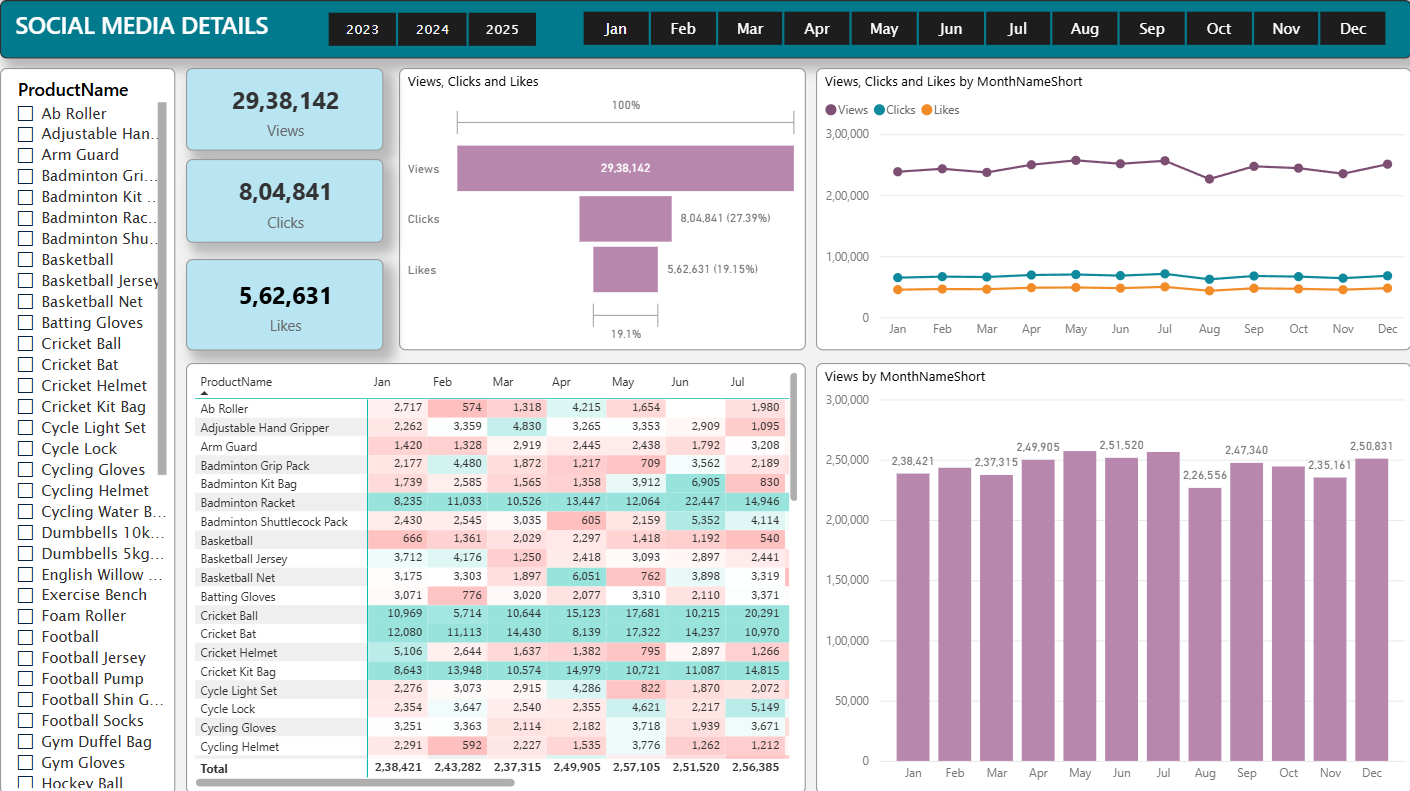

The page's visual inventory and layout, read from the dashboard file:
{"tool":"powerbi","page":{"name":"Social Media Details","canvas":[1280,720],"ordinal":2},"visuals":[{"type":"textbox","box":[0,0,1280,52.6],"z":0},{"type":"slicer","fields":{"Values":["dim_products.ProductName"]},"box":[0,61.6,159.5,658.5],"z":1000},{"type":"lineChart","fields":{"Y":["_Calculations.Views","_Calculations.Clicks","_Calculations.Likes"],"Category":["Calendar.MonthNameShort"]},"box":[739.9,61.7,540.5,255.7],"z":2000},{"type":"funnel","fields":{"Y":["_Calculations.Views","_Calculations.Clicks","_Calculations.Likes"]},"box":[361.8,61.7,369.1,255.7],"z":3000},{"type":"card","fields":{"Values":["_Calculations.Views"]},"box":[168.7,61.7,178.6,75.3],"z":4000},{"type":"card","fields":{"Values":["_Calculations.Clicks"]},"box":[168.7,144.2,178.6,76.2],"z":5000},{"type":"card","fields":{"Values":["_Calculations.Likes"]},"box":[168.7,234.9,178.6,82.5],"z":6000},{"type":"slicer","fields":{"Values":["Calendar.MonthNameShort"]},"box":[503.3,3.6,777.1,44.4],"z":7000},{"type":"slicer","fields":{"Values":["Calendar.Year"]},"box":[272,4.5,238.5,44.4],"z":8000},{"type":"pivotTable","fields":{"Rows":["dim_products.ProductName"],"Values":["_Calculations.Views"],"Columns":["Calendar.MonthNameShort"]},"box":[168.7,329.2,562.2,390.8],"z":9000},{"type":"clusteredColumnChart","fields":{"Category":["Calendar.MonthNameShort"],"Y":["_Calculations.Views"]},"box":[739.9,329.2,540.5,390.8],"z":10000}]}

Visuals, with their boxes in screenshot pixels (x1, y1, x2, y2), scaled from the page's 1280x720 canvas onto the 1410x791 screenshot:
textbox: box(0, 0, 1409, 58)
slicer - dim_products.ProductName: box(0, 68, 176, 790)
lineChart - _Calculations.Views x _Calculations.Clicks: box(815, 68, 1409, 349)
funnel - _Calculations.Views x _Calculations.Clicks: box(399, 68, 805, 349)
card - _Calculations.Views: box(186, 68, 383, 151)
card - _Calculations.Clicks: box(186, 158, 383, 242)
card - _Calculations.Likes: box(186, 258, 383, 349)
slicer - Calendar.MonthNameShort: box(554, 4, 1409, 53)
slicer - Calendar.Year: box(300, 5, 562, 54)
pivotTable - dim_products.ProductName x _Calculations.Views: box(186, 362, 805, 790)
clusteredColumnChart - Calendar.MonthNameShort x _Calculations.Views: box(815, 362, 1409, 790)
